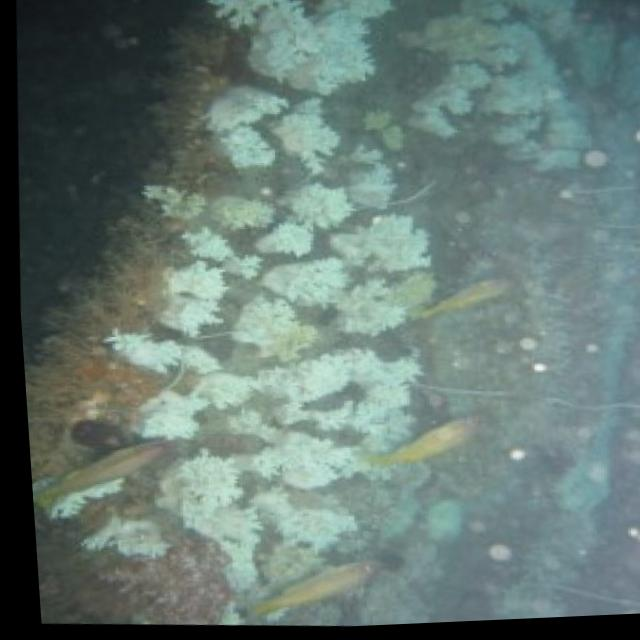Bleached Coral: (98, 0, 464, 611), (409, 0, 624, 211)
